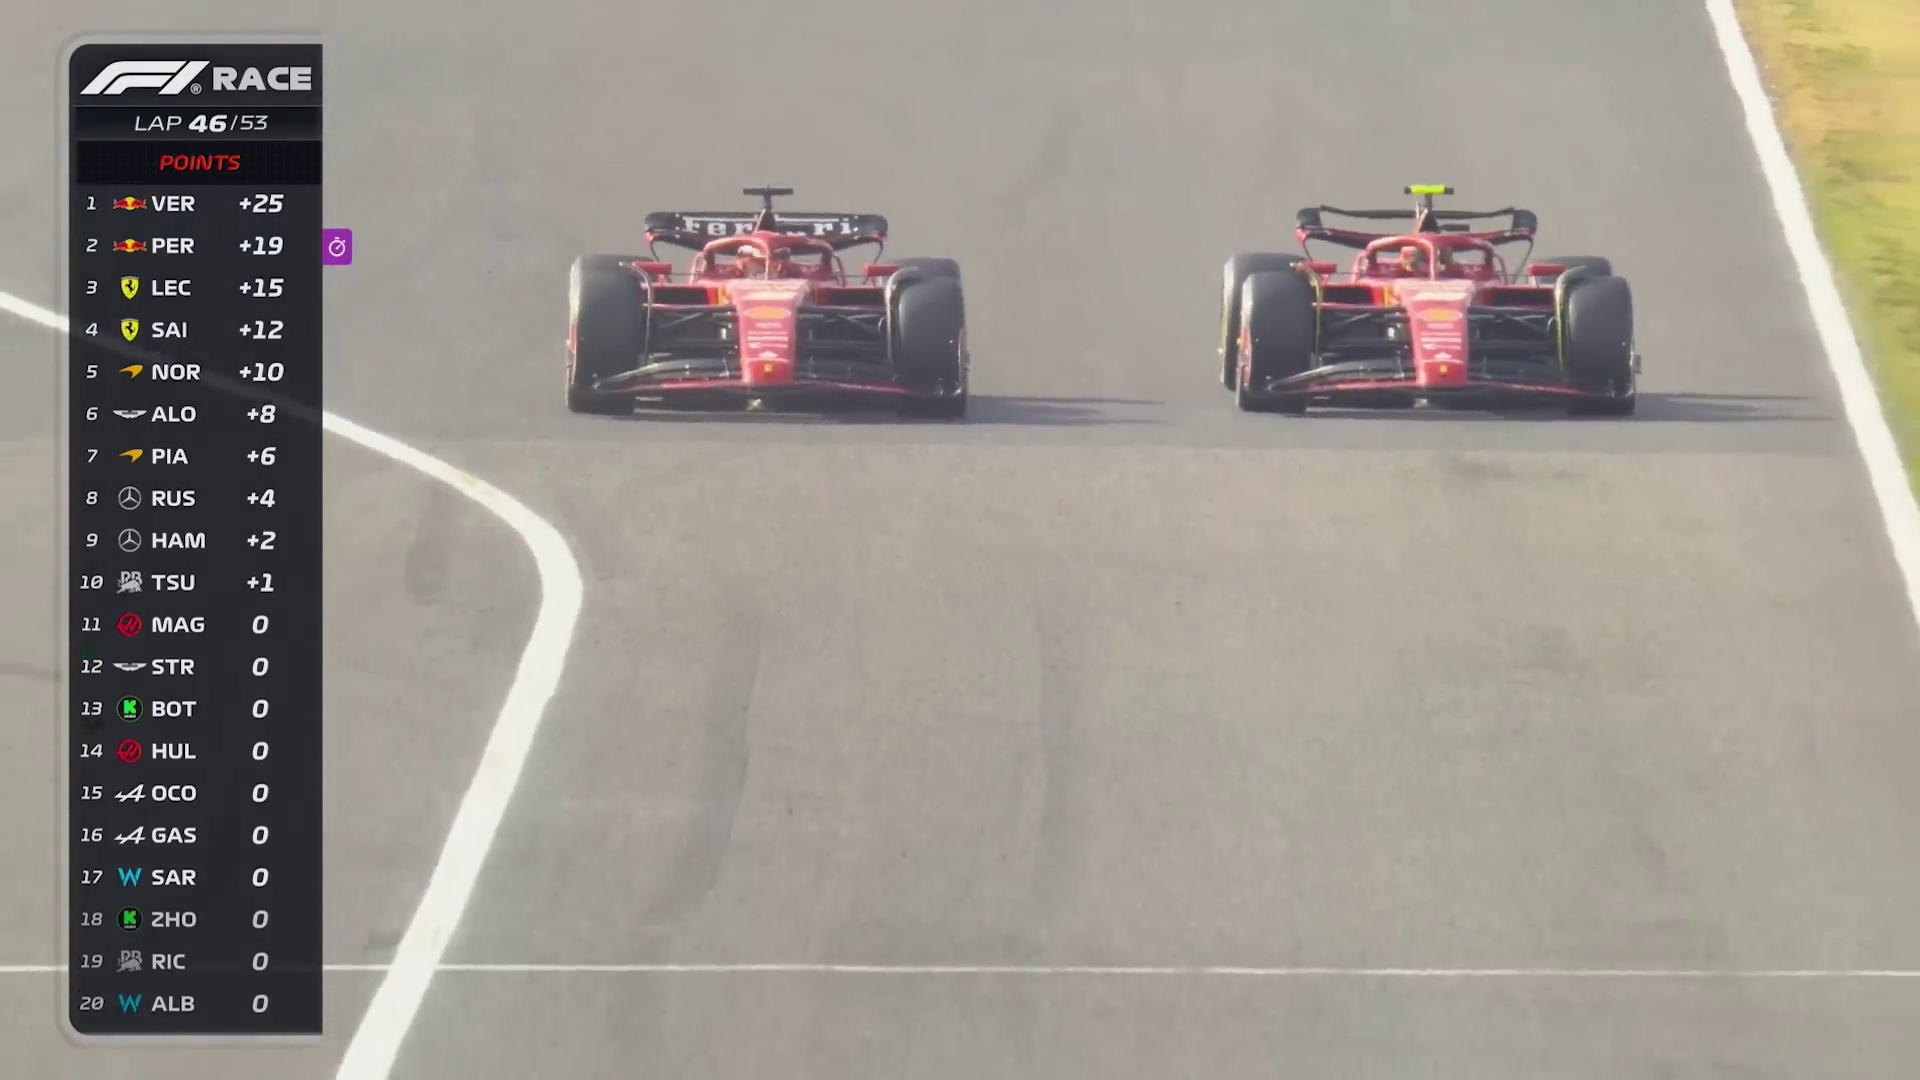Ferrari: (1228, 202, 1634, 414), (564, 210, 968, 413)
